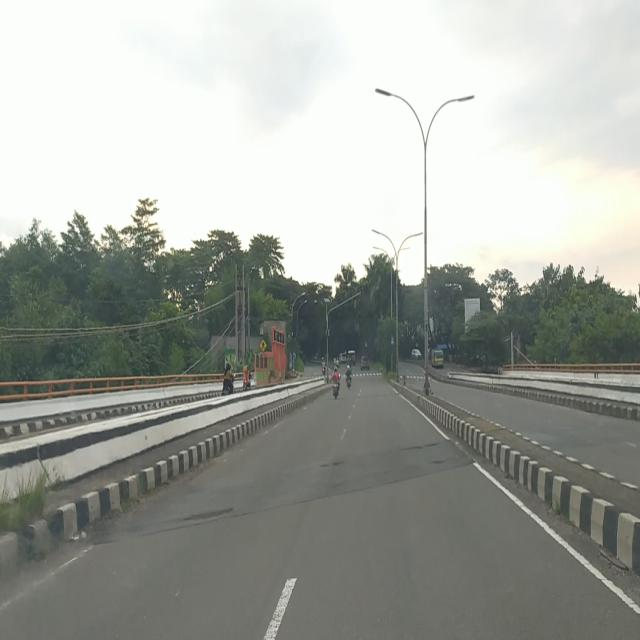Sewer Cover: (322, 442, 446, 465), (165, 508, 235, 525)
